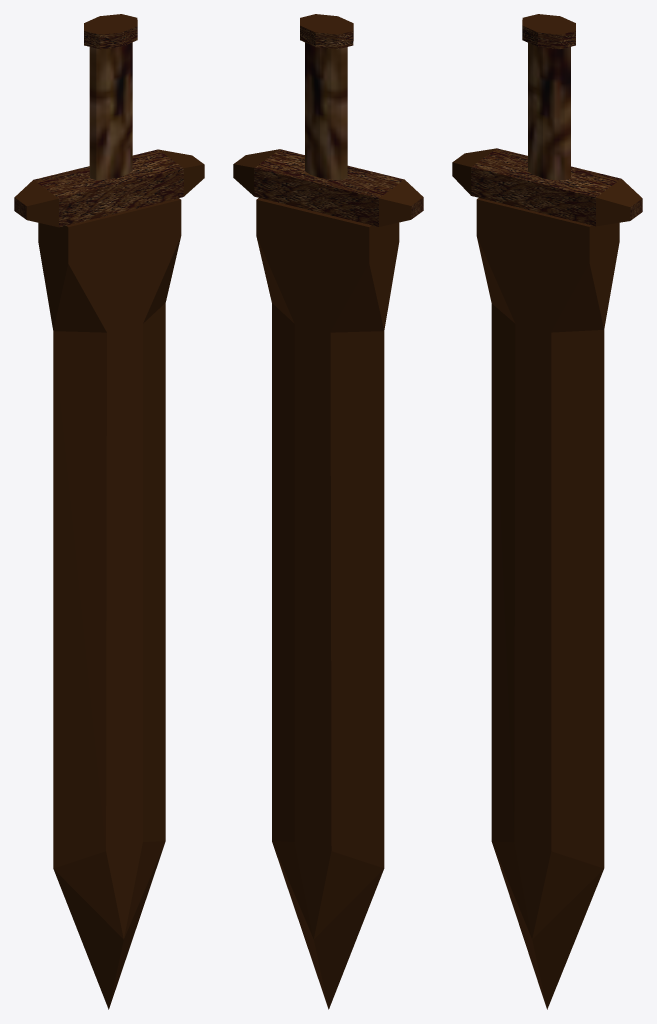
The model's file is sword126_wtf.obj.
The picture shows the model from 3 angles, left to right: view 1: azimuth 30°, elevation 25°; view 2: azimuth 150°, elevation 25°; view 3: azimuth 330°, elevation 25°; orthographic projection.
Parts seen in each view (by area): view 1: group3; view 2: group3; view 3: group3.
Boxes of the visible parts, x1,y1,x2,y2 form: group3: (14, 14, 204, 1009); group3: (233, 14, 423, 1009); group3: (452, 14, 642, 1009).
Size of the model in its own units: 125 by 660 by 36.45.
